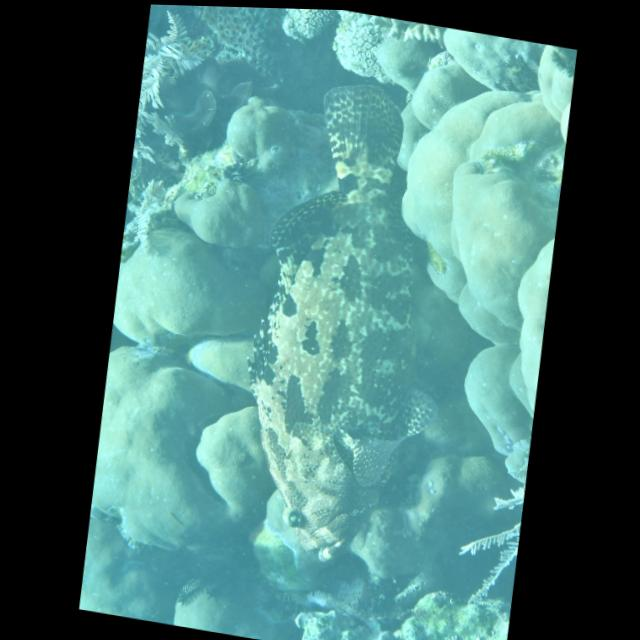Groupers: (210, 68, 477, 589)
